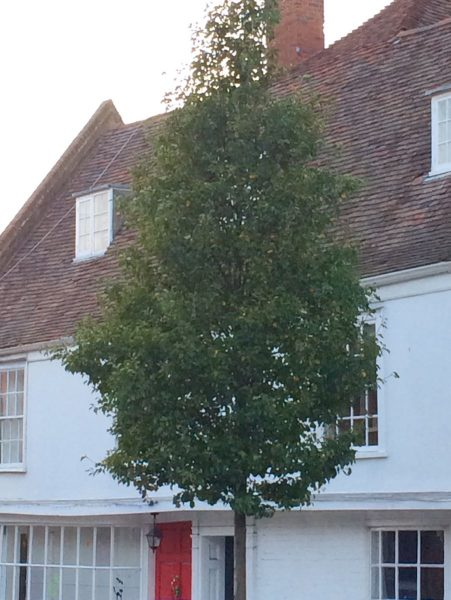tree: (36, 1, 393, 600)
